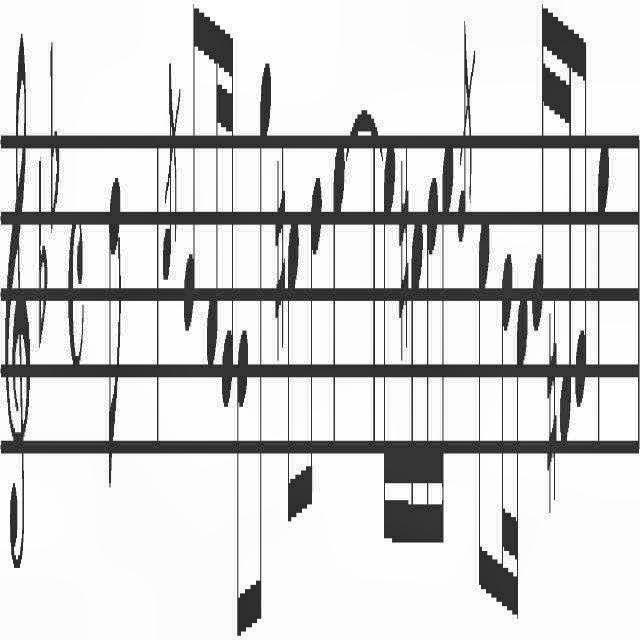Bass-clef: (4, 26, 32, 594)
Bemol: (50, 37, 60, 249), (38, 151, 48, 347)
Diez: (546, 294, 558, 518), (274, 149, 286, 355), (398, 146, 409, 370)
Eighth-note: (250, 61, 270, 639), (301, 177, 323, 551), (286, 212, 302, 548), (574, 26, 588, 410), (182, 6, 198, 337), (478, 205, 490, 608), (107, 167, 121, 509), (236, 322, 248, 640)
Quarter-note: (332, 132, 346, 460), (597, 135, 611, 458)
Sixteenth-note: (440, 138, 456, 586), (404, 216, 424, 564), (382, 142, 398, 554), (559, 10, 573, 450), (498, 244, 514, 628), (425, 168, 439, 580), (514, 286, 530, 628), (532, 0, 548, 336), (206, 11, 220, 377), (220, 18, 233, 410)
